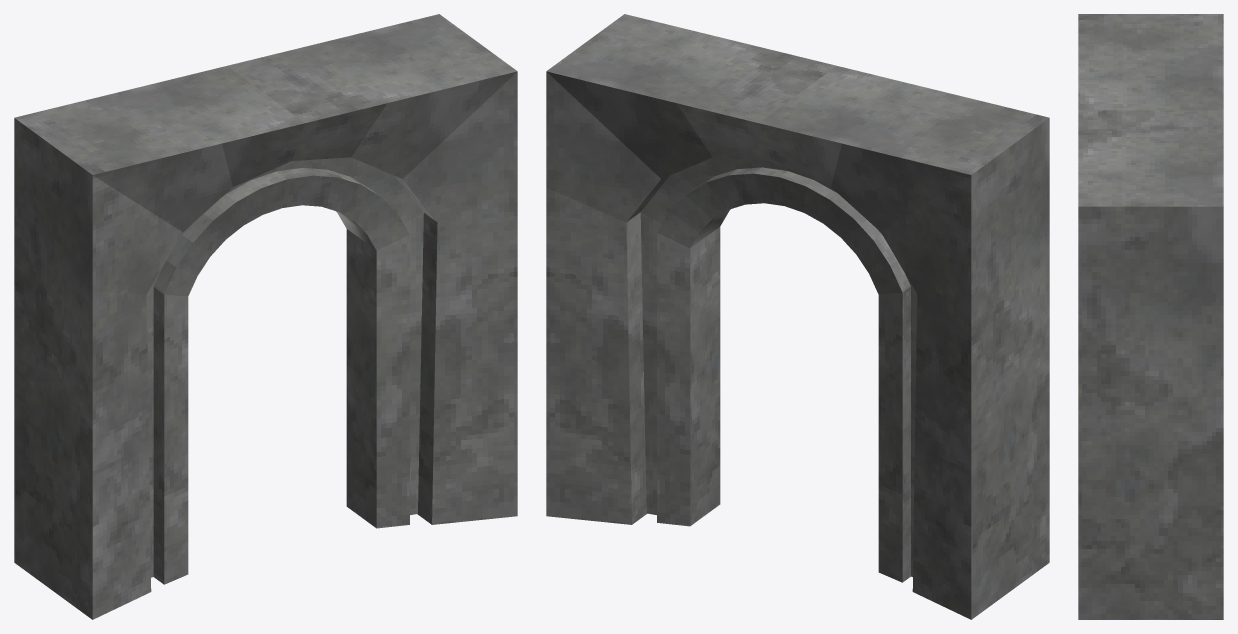
File: door_frame.gltf
3 views of the same model, side by side, from view 1: azimuth 30°, elevation 25°; view 2: azimuth 150°, elevation 25°; view 3: azimuth 270°, elevation 25° (orthographic). The views are drawn at different scales.
Parts seen in each view (by area): view 1: Frame; view 2: Frame; view 3: Frame.
Part boxes in pixels (x1,y1,x2,y2): Frame: (14, 14, 517, 619); Frame: (546, 14, 1049, 619); Frame: (1078, 14, 1223, 619).
Size of the model in its own units: 3 by 3.01 by 0.9578.
1 material, 1 textured.
